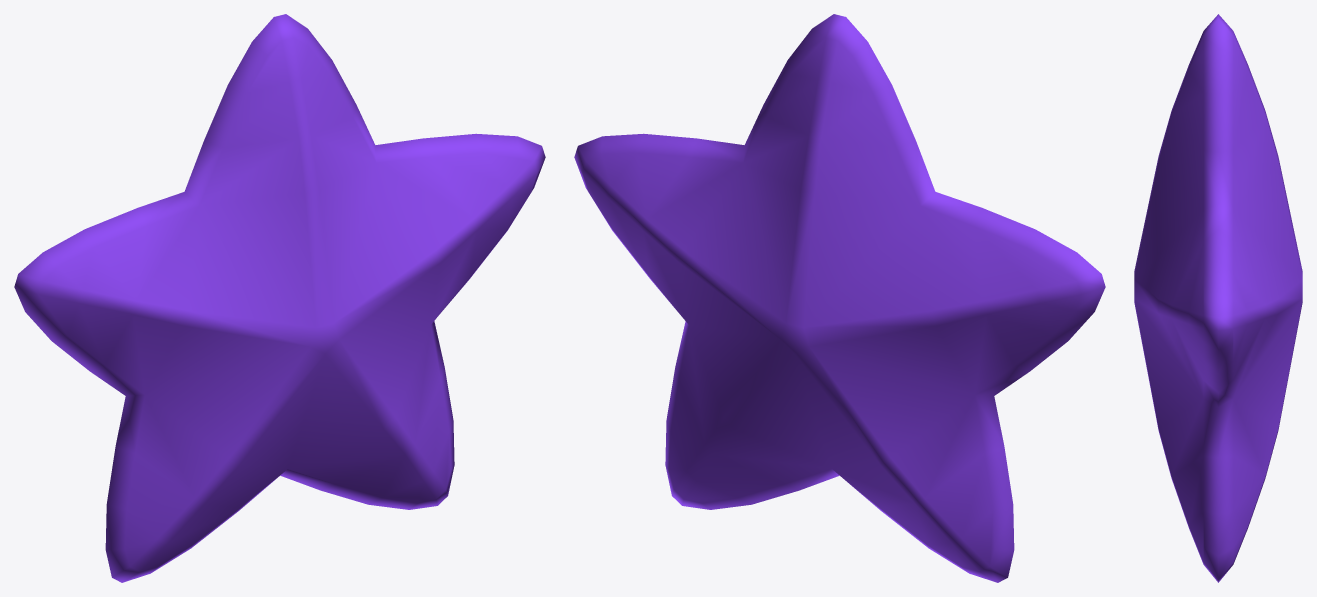
3 renders of one model, left to right at view 1: azimuth 30°, elevation 25°; view 2: azimuth 150°, elevation 25°; view 3: azimuth 270°, elevation 25°, orthographic. The views are drawn at different scales.
Parts seen in each view (by area): view 1: model_1.149; view 2: model_1.149; view 3: model_1.149.
Part boxes in pixels (<box>): model_1.149: <box>14,14,545,582</box>; model_1.149: <box>574,14,1105,582</box>; model_1.149: <box>1134,14,1302,582</box>.
Bounding box in the file's own units: 4.48 × 4.26 × 1.32.
